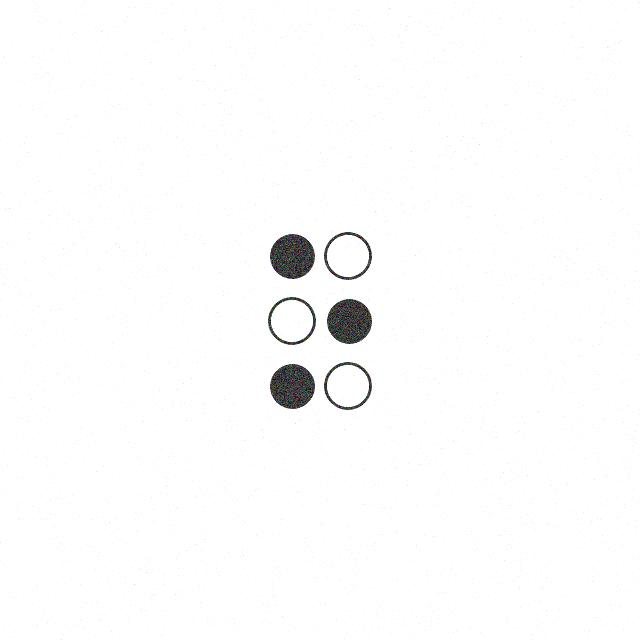O: (266, 228, 377, 414)
